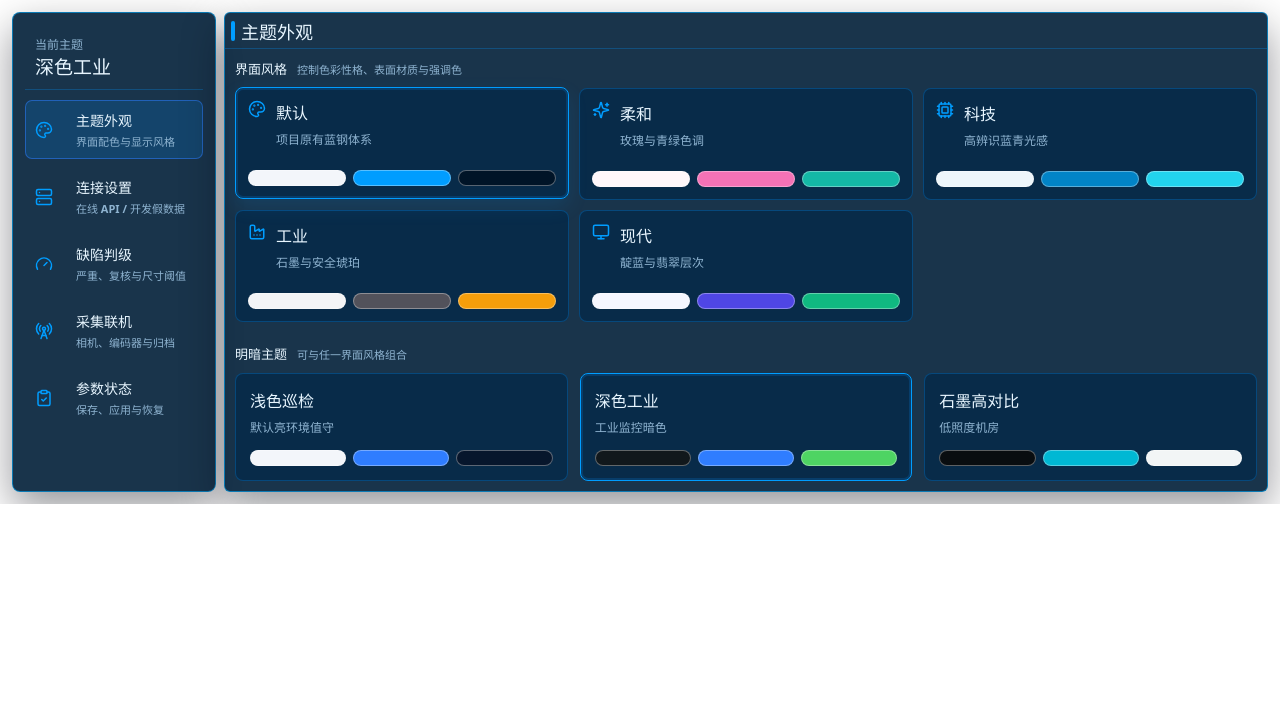
Test: SettingsPage › switches setting sections from the left navigation
Step 1. Click the button "缺陷判级 严重、复核与尺寸阈值" → (114, 264), box [25,234,203,293]
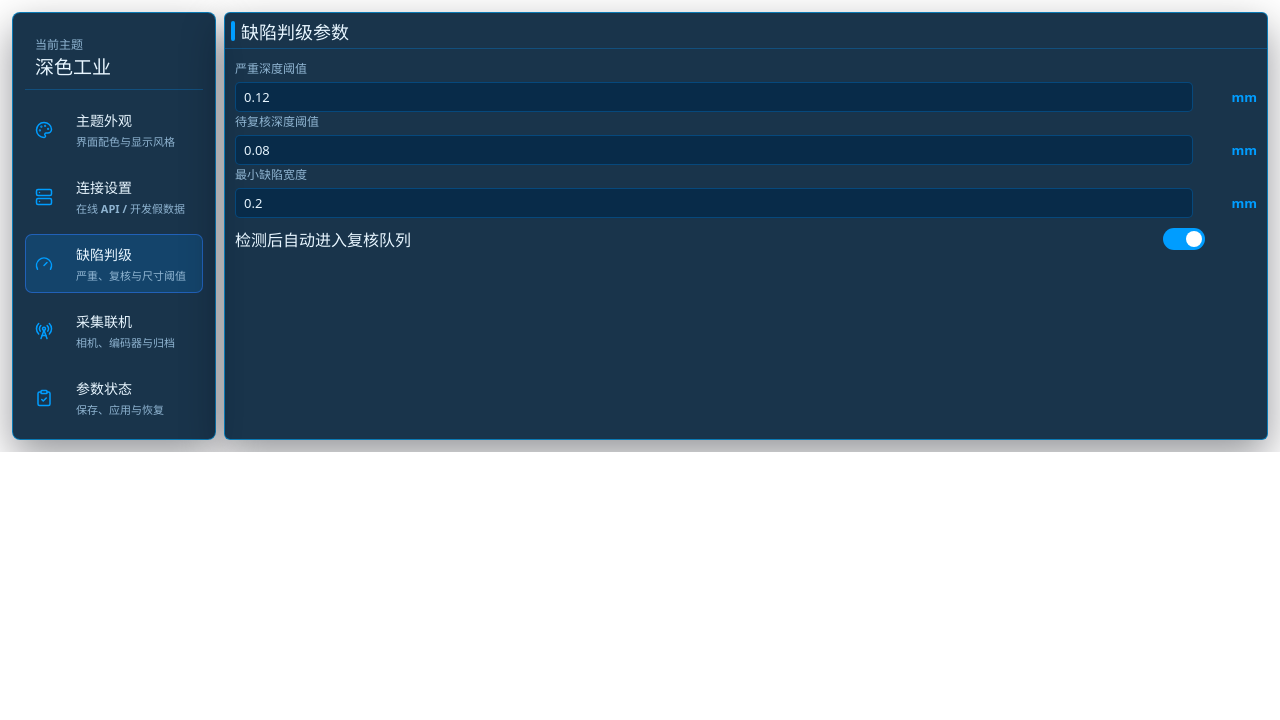
Expected: the heading "缺陷判级参数" is shown, [241,20,349,44]
Expected: the number field labelled "严重深度阈值" is shown, [235,82,1193,112]
Expected: the button "选择深色工业主题" is gone
